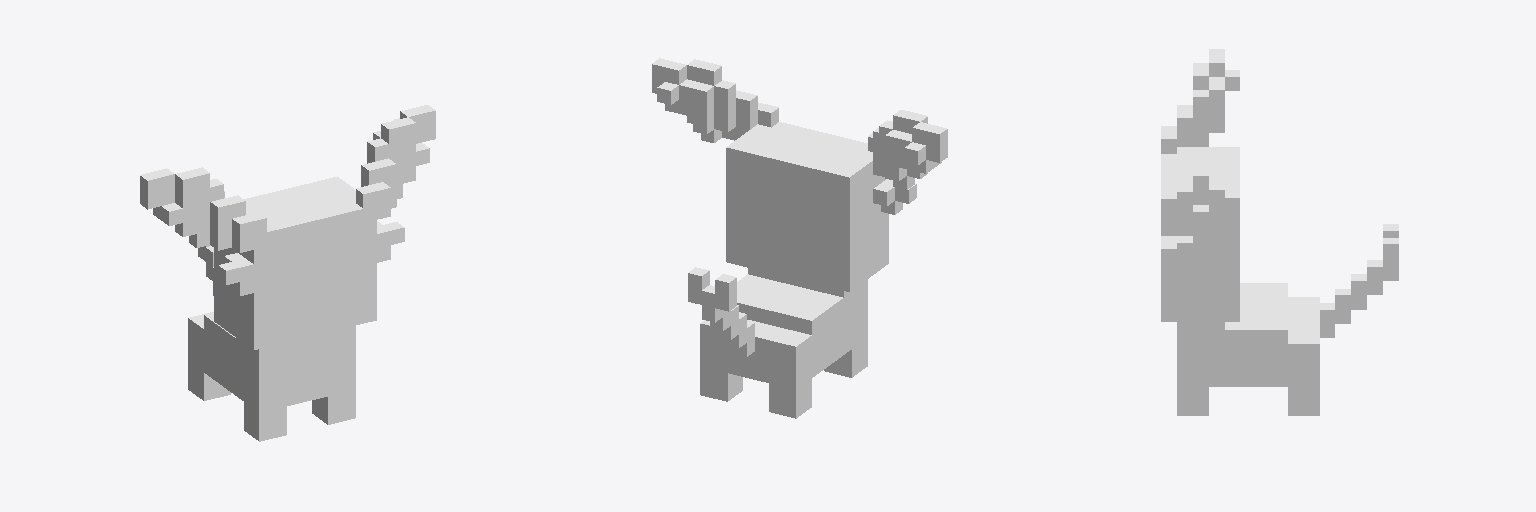
Rendered from espeonshiny.obj.
3 renders of one model, left to right at view 1: azimuth 30°, elevation 25°; view 2: azimuth 150°, elevation 25°; view 3: azimuth 270°, elevation 25°, orthographic.
Visible parts, largest first — view 1: object 1; view 2: object 1; view 3: object 1.
Part boxes in pixels (x1,y1,x2,y2): object 1: (140, 105, 435, 441); object 1: (652, 58, 947, 418); object 1: (1161, 49, 1398, 415).
Size of the model in its own units: 2.1 by 1.9 by 1.5.